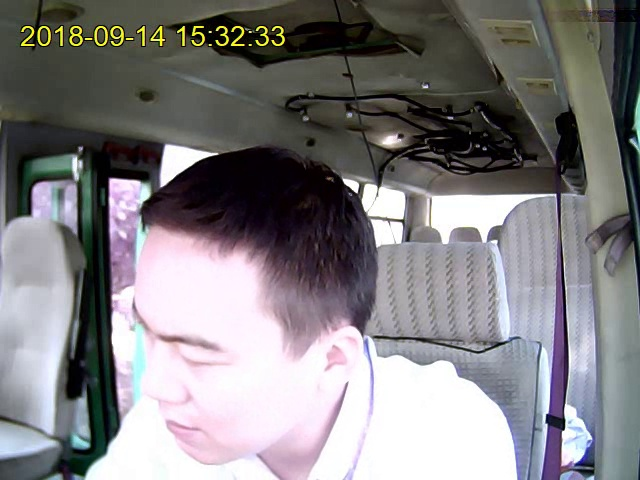closed_eye: (173, 350, 228, 370)
closed_mouth: (160, 412, 200, 440)
